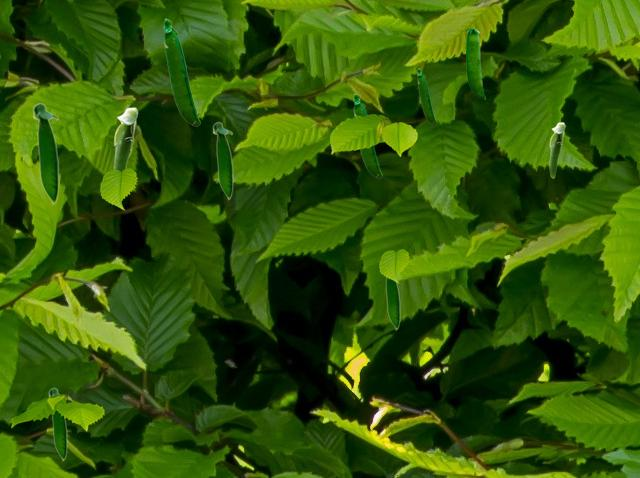pea: (163, 18, 199, 125), (32, 102, 58, 205), (353, 93, 381, 177), (212, 121, 232, 200), (113, 107, 137, 169), (48, 387, 66, 461), (466, 29, 484, 98), (417, 68, 435, 123), (549, 122, 564, 177), (385, 278, 399, 330)
